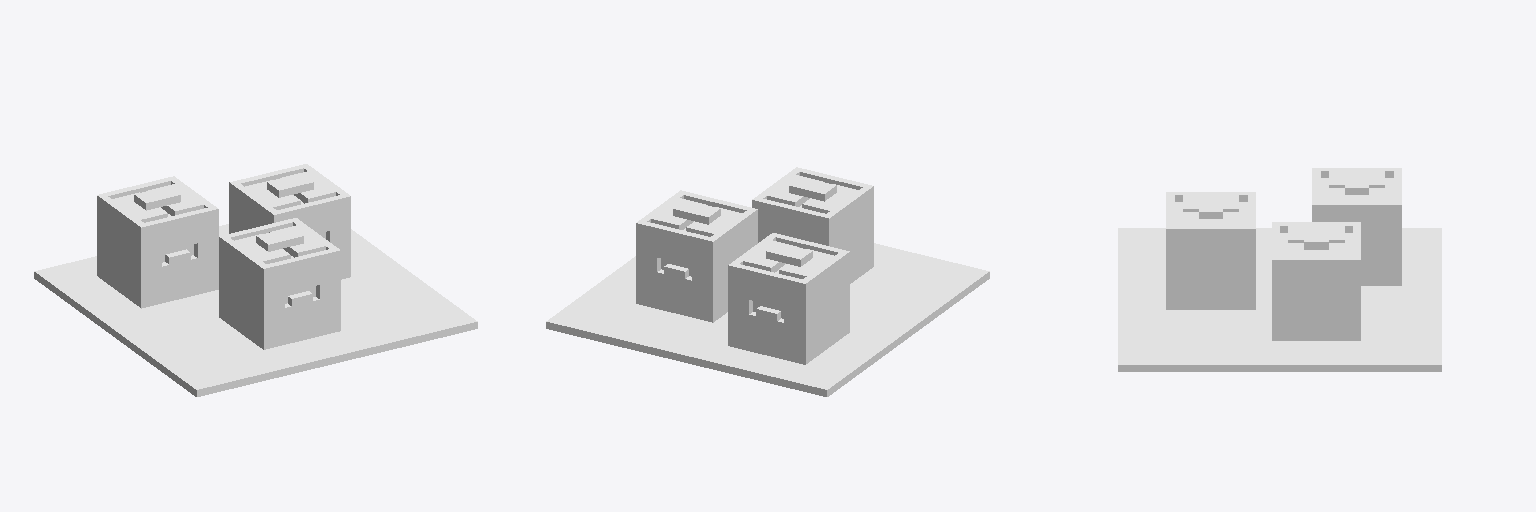
File: Box_little_1.obj
3 views of the same model, side by side, from view 1: azimuth 30°, elevation 25°; view 2: azimuth 150°, elevation 25°; view 3: azimuth 270°, elevation 25° (orthographic).
Size of the model in its own units: 40 by 13 by 40.